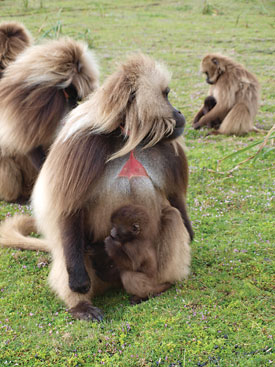Gelada: (48, 63, 200, 317), (2, 44, 87, 190), (189, 53, 260, 135), (104, 208, 158, 302)
